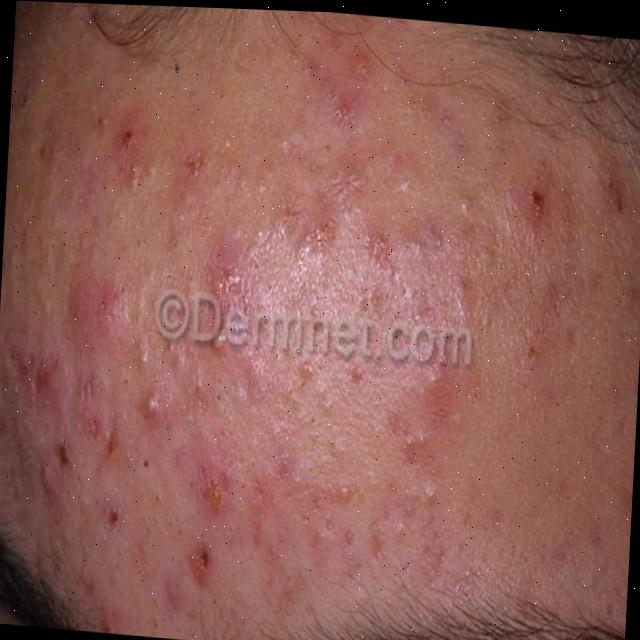Acne: (0, 0, 640, 624)
